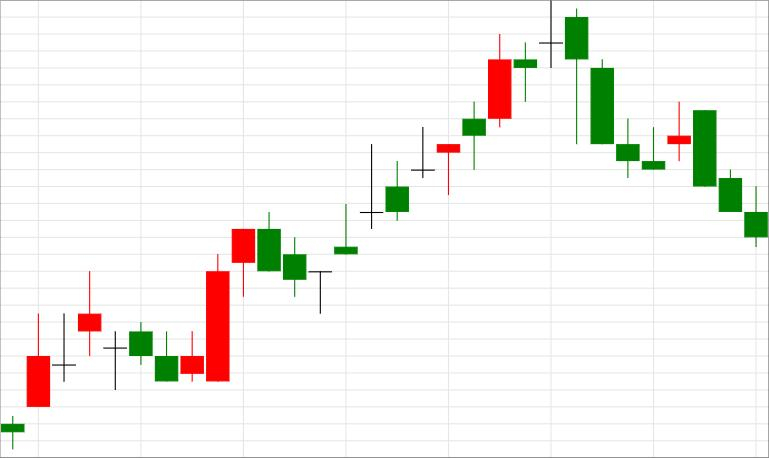hanging_man_fall: (411, 1, 588, 196)
